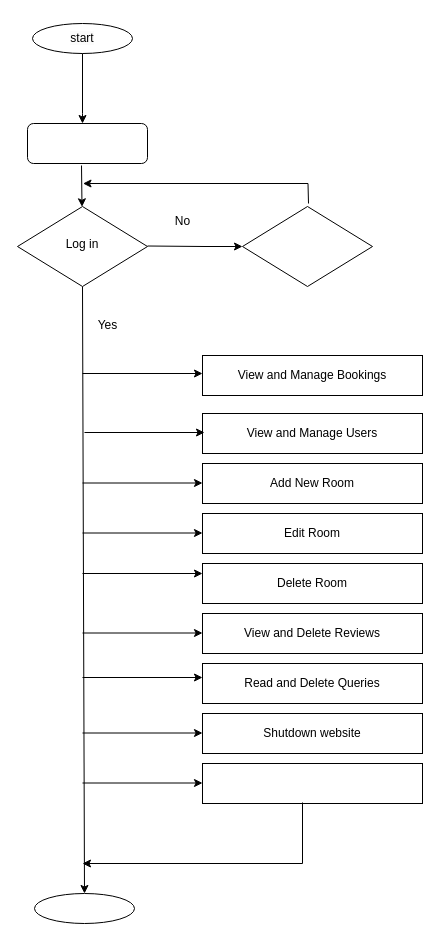
Some shapes in this 440 by 941 pixel diagram are drawn without their labels. Each missing label, with the centre of its shape:
"Admin" belongs at [87,143].
"Log out" belongs at [312,783].
"Register" belongs at [307,246].
"stop" belongs at [84,908].
